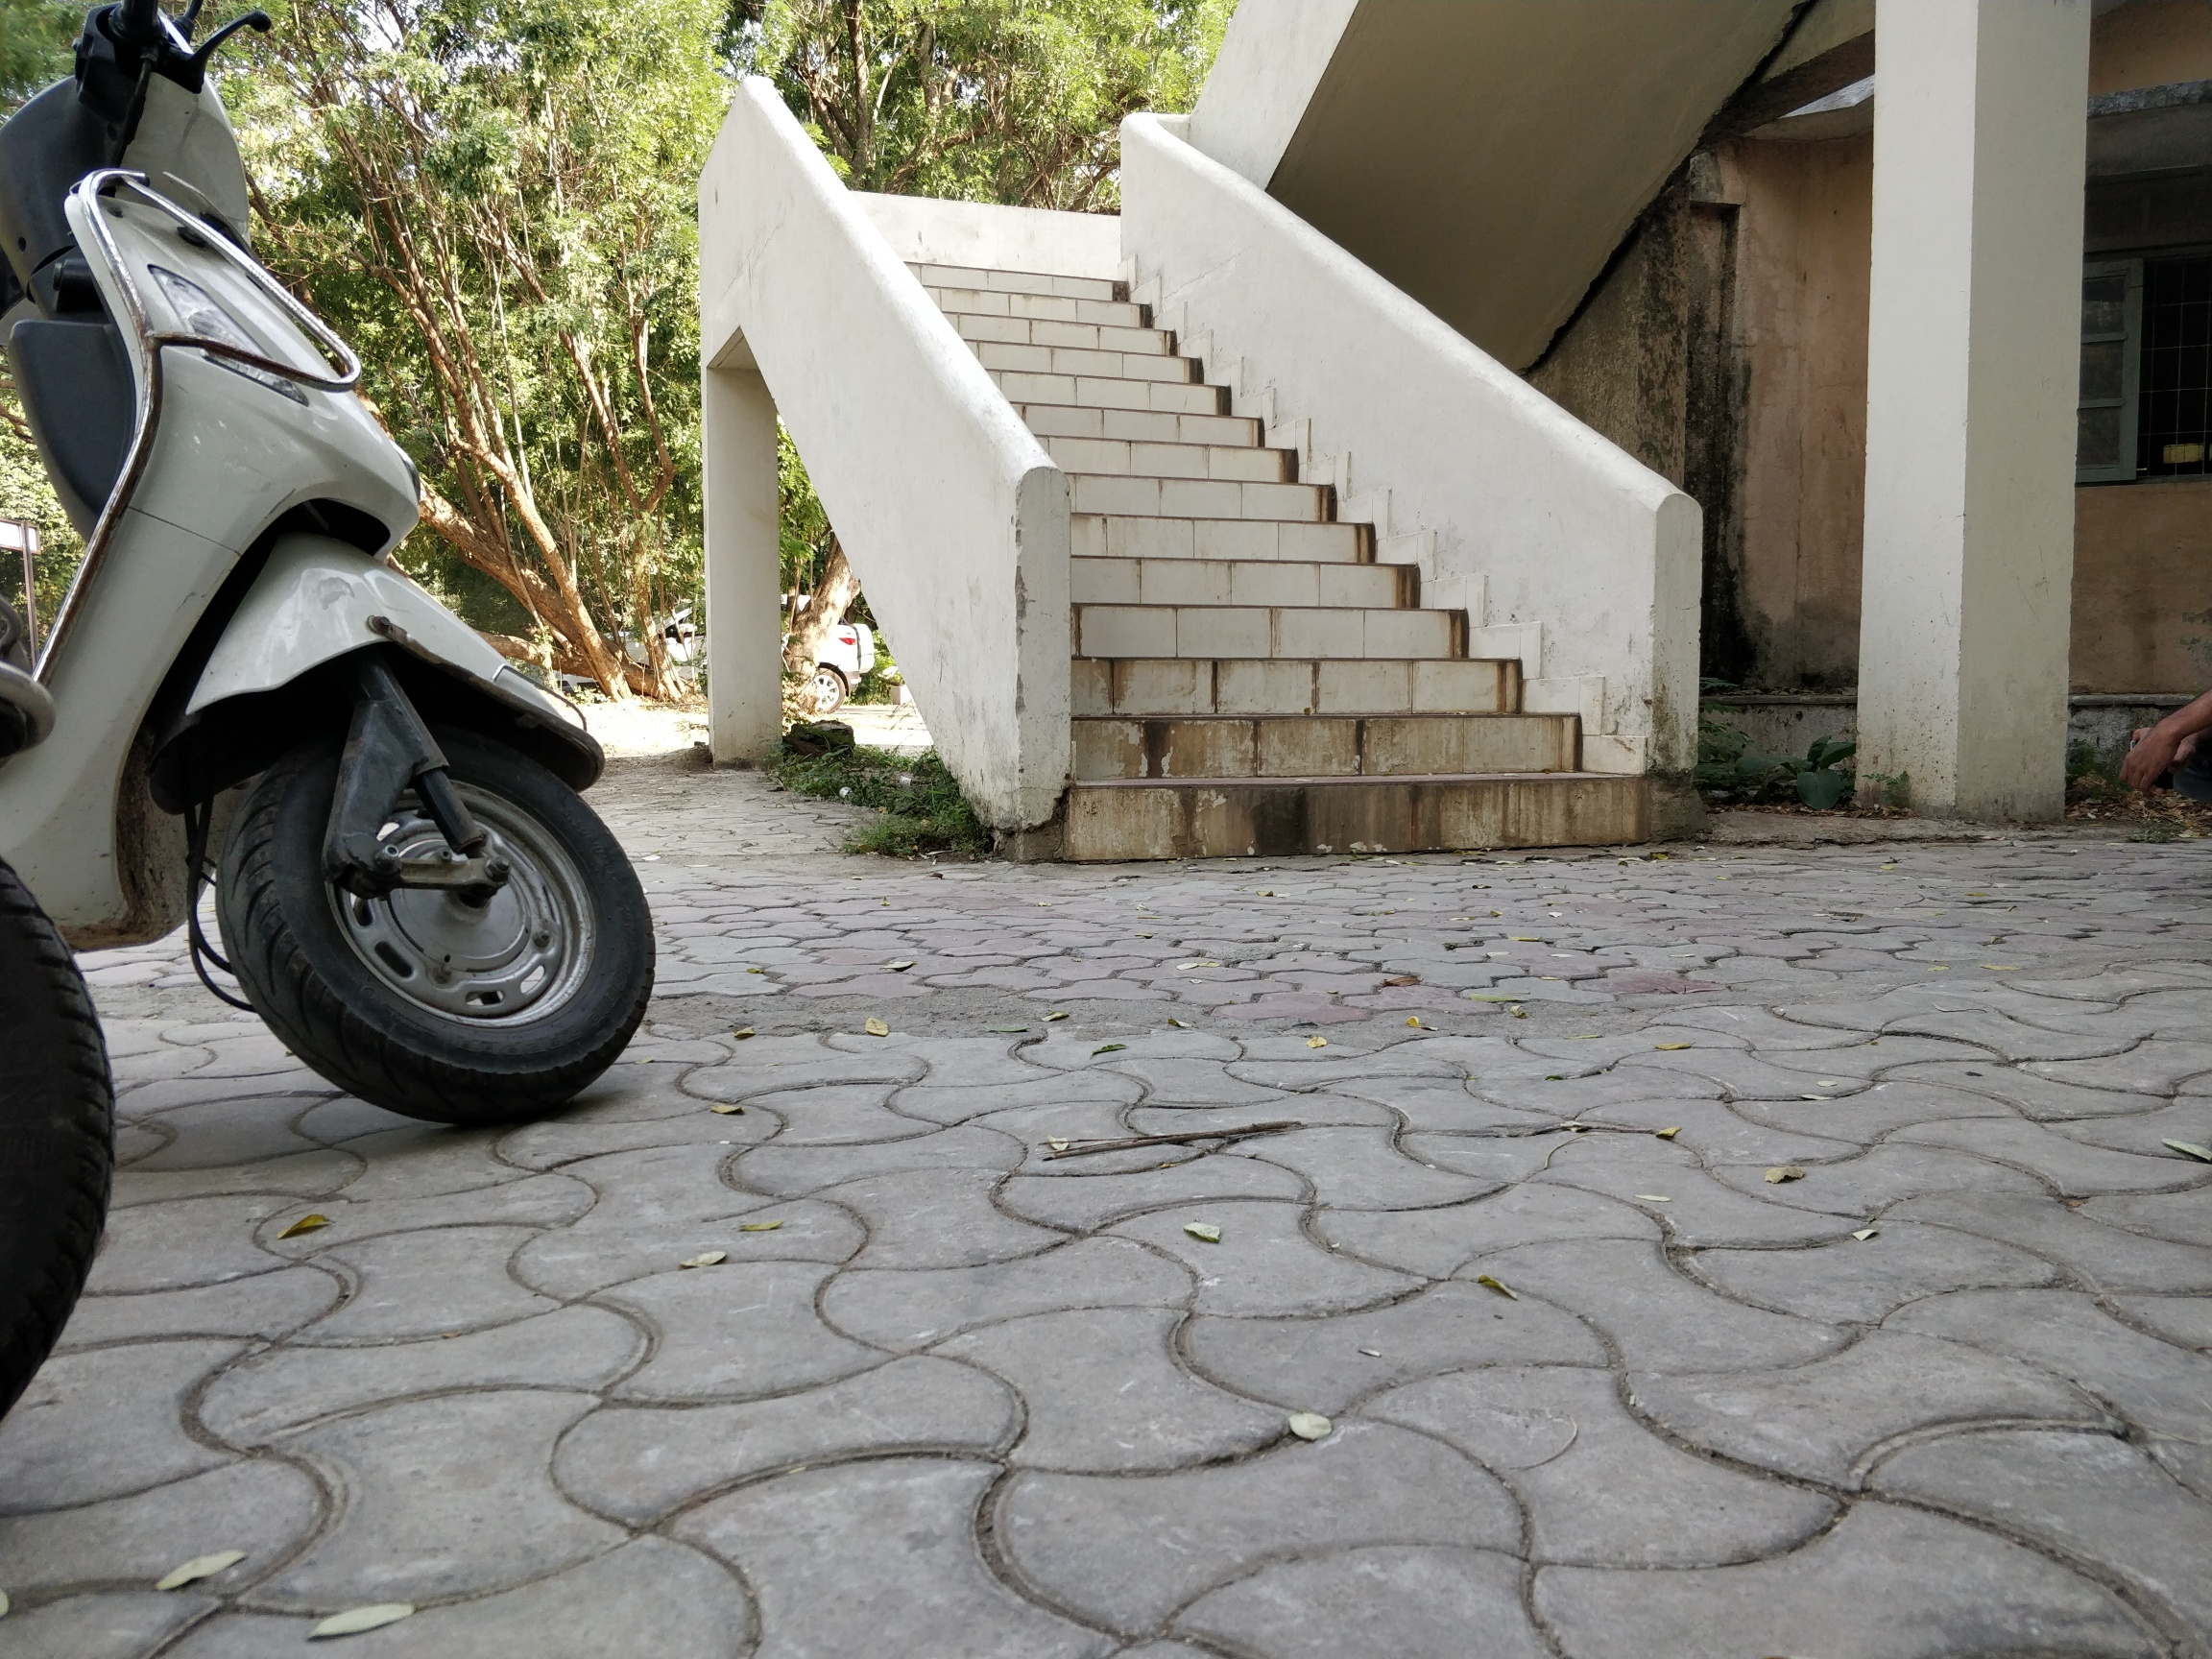stairs_up: (808, 220, 1747, 849)
